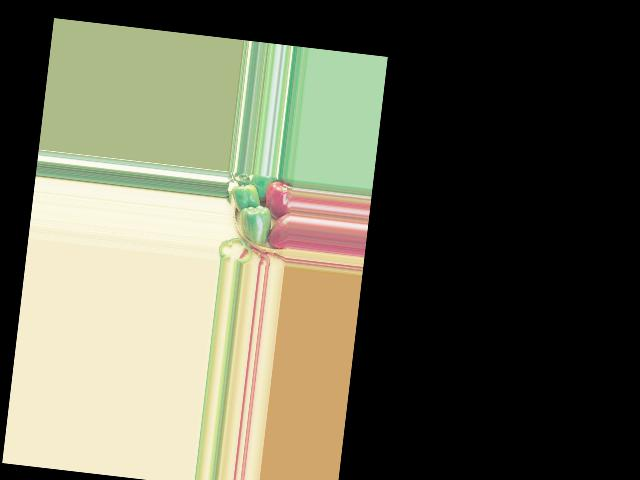bell_pepper: (269, 210, 290, 249)
